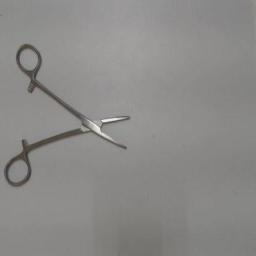Mayo Needle Holder: (2, 40, 138, 192)
